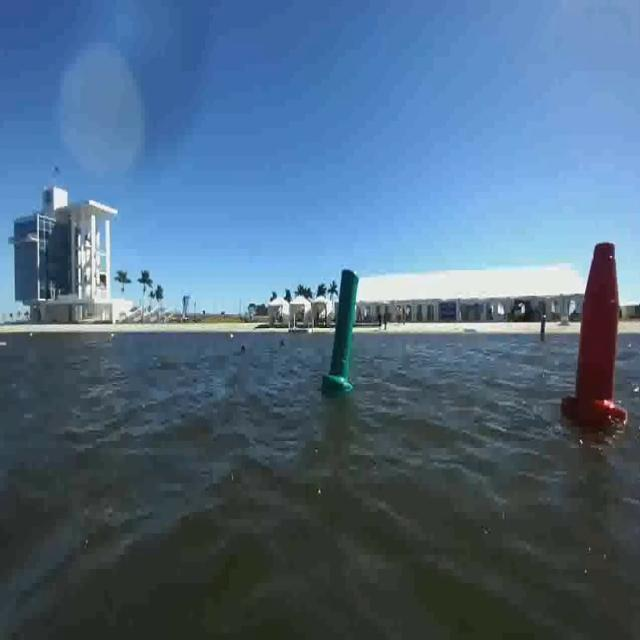green-column-buoy: (324, 268, 361, 396)
red-column-buoy: (560, 238, 627, 430)
